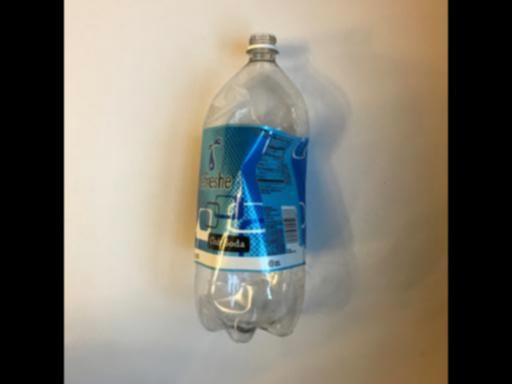PET: (193, 31, 312, 342)
plastic: (193, 31, 312, 342)
soft-drink: (193, 31, 312, 342)
